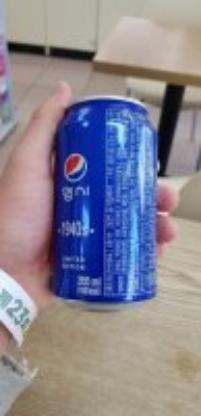Can: (56, 93, 162, 309)
